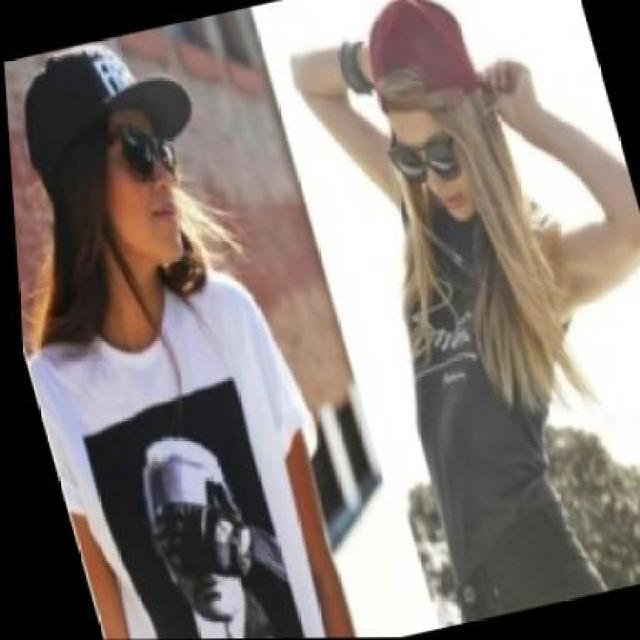hat: (1, 26, 208, 191), (345, 0, 517, 123)
